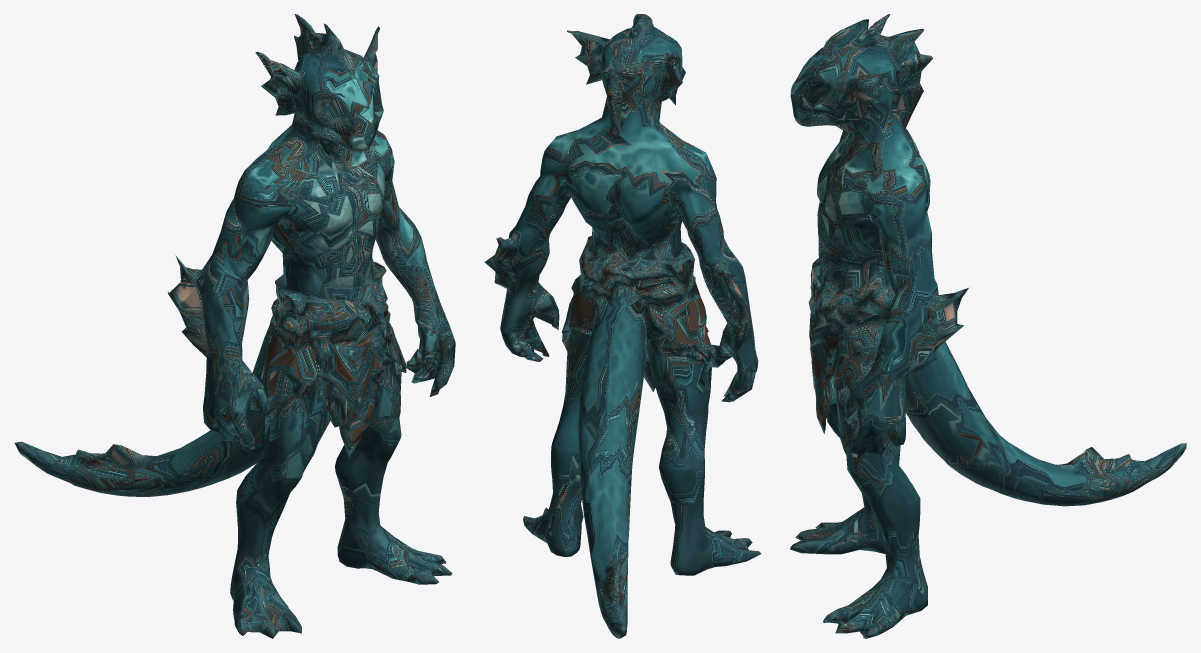
File: scalekin_raider_scout.glb
The picture shows the model from 3 angles, left to right: view 1: azimuth 30°, elevation 25°; view 2: azimuth 150°, elevation 25°; view 3: azimuth 270°, elevation 25°; orthographic projection. The views are drawn at different scales.
Visible parts, largest first — view 1: Mesh_0; view 2: Mesh_0; view 3: Mesh_0.
Boxes of the visible parts, x1,y1,x2,y2 form: Mesh_0: (14, 14, 455, 638); Mesh_0: (484, 14, 761, 638); Mesh_0: (790, 14, 1186, 638).
Bounding box in the file's own units: 0.9801 × 1.9 × 1.22.
Materials: 1 (1 with a texture image).
